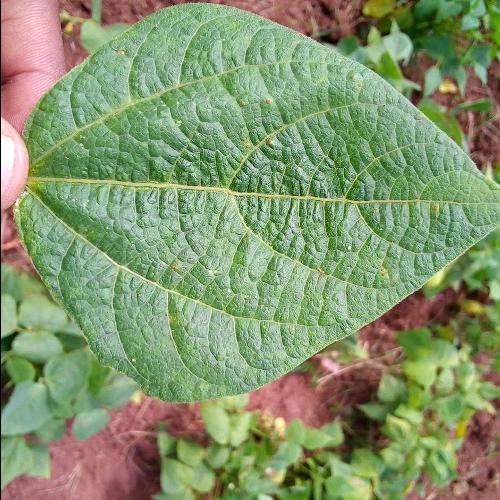mozaik: (122, 43, 308, 184), (103, 218, 242, 371), (353, 159, 467, 281)
